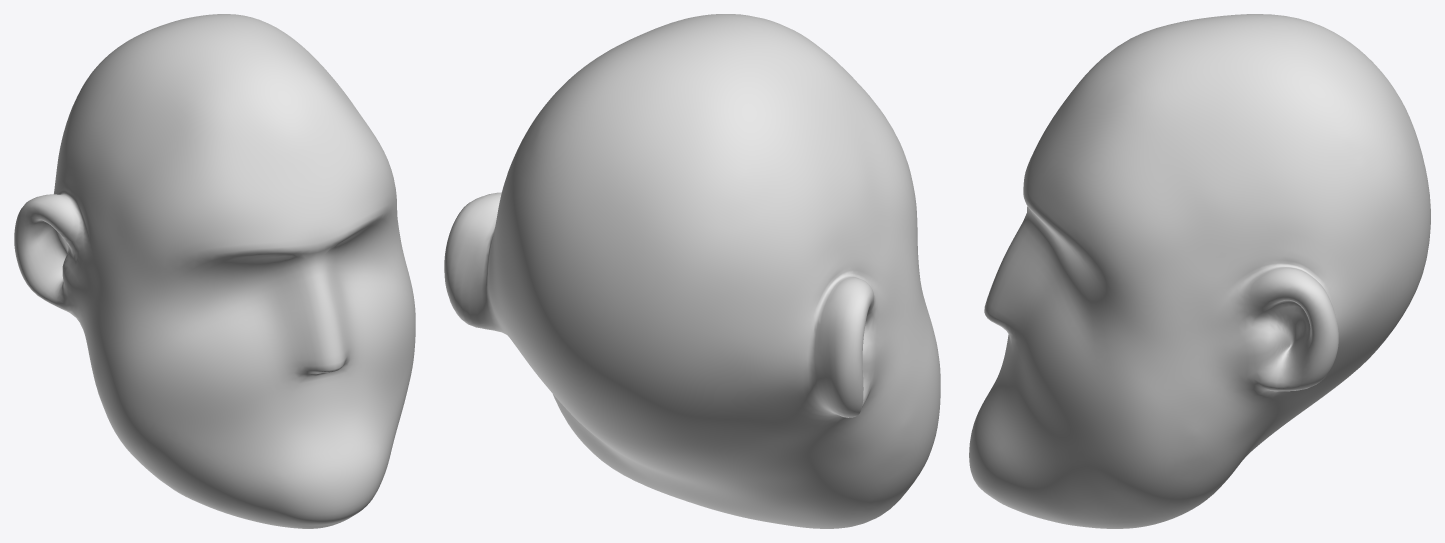
File: Head2.glb
3 views of the same model, side by side, from view 1: azimuth 30°, elevation 25°; view 2: azimuth 150°, elevation 25°; view 3: azimuth 270°, elevation 25° (orthographic). The views are drawn at different scales.
Visible parts, largest first — view 1: node_id30; view 2: node_id30; view 3: node_id30.
Boxes of the visible parts, x1,y1,x2,y2 form: node_id30: (14, 14, 415, 528); node_id30: (444, 14, 940, 528); node_id30: (969, 14, 1430, 528).
Bounding box in the file's own units: 0.4227 × 0.512 × 0.4509.
Materials: 1 (1 with a texture image).
